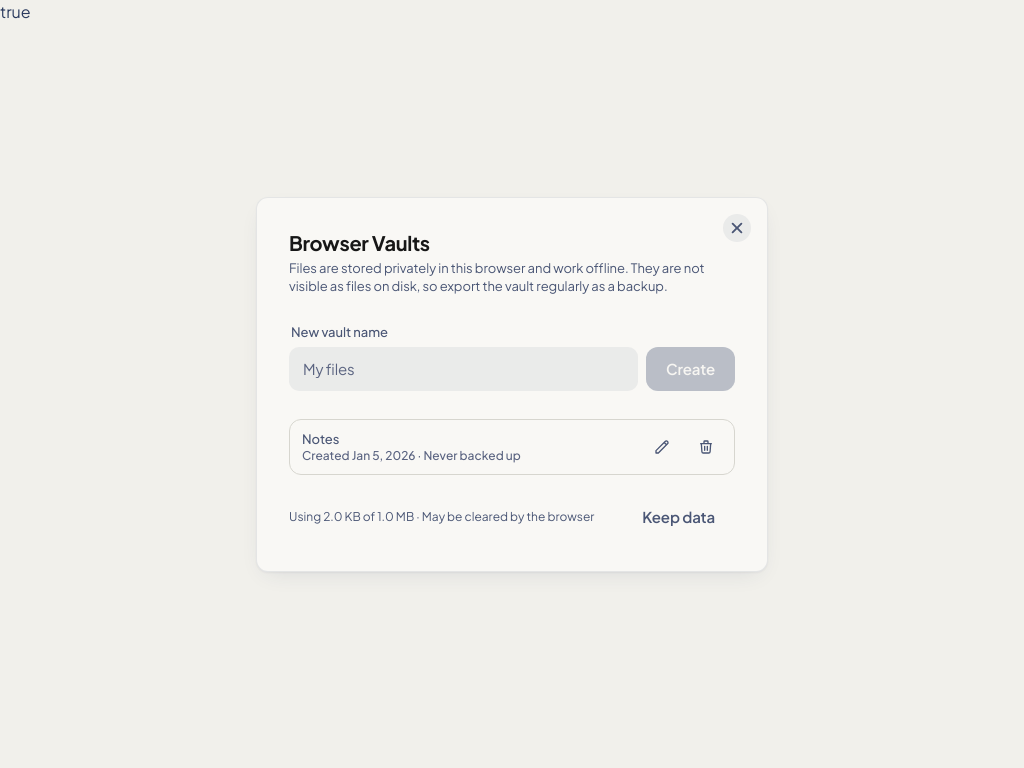
BrowserVaultDialog › creates a vault from the typed name and closes
expect the text "Notes" is shown: met, box [302,430,339,446]
Type "Journal" into the field with placeholder "My files" at (464, 368), box [289,346,638,390]
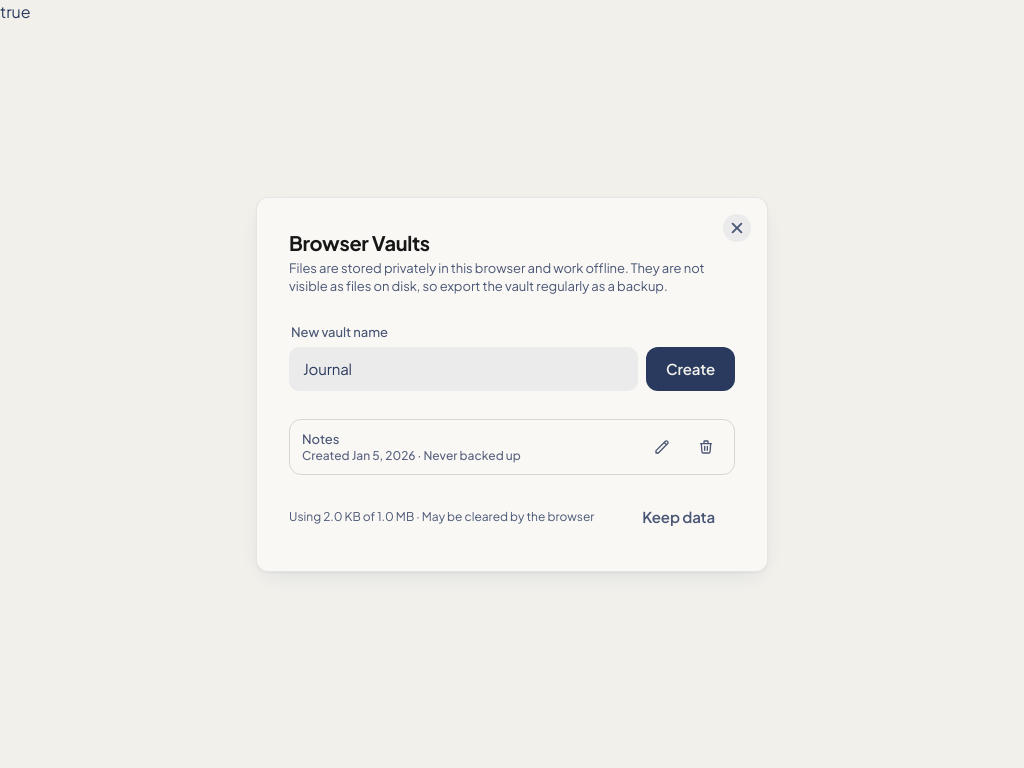
Click the button "Create" at (690, 368), box [646,346,735,390]
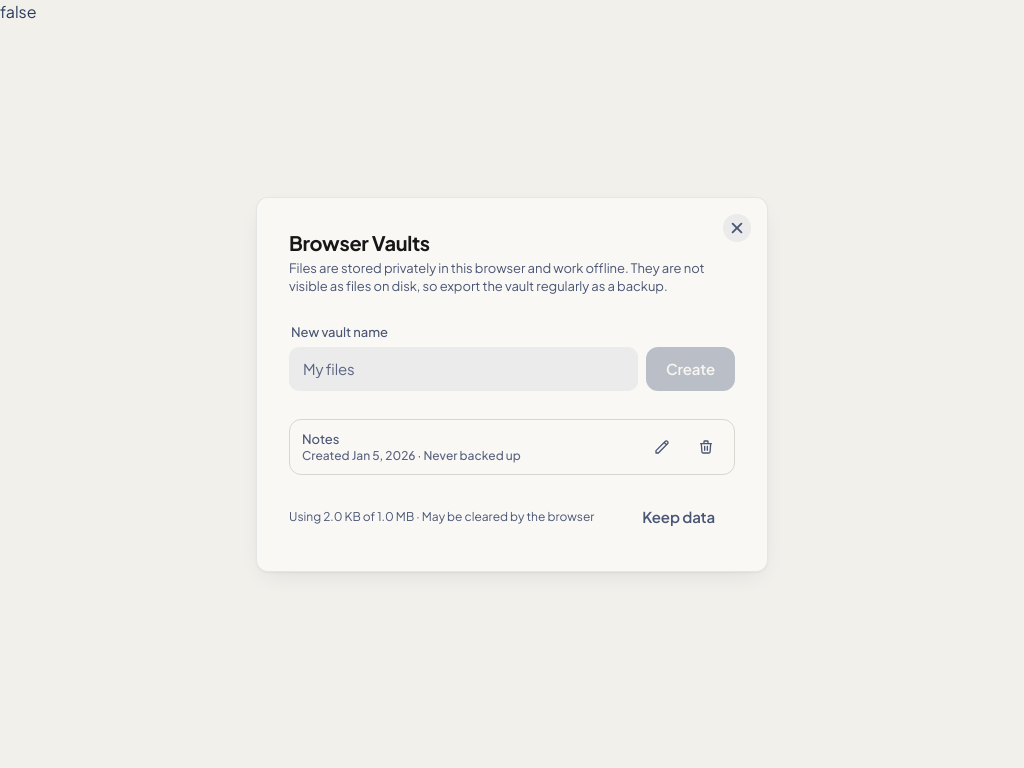
expect the text with test id "open" reads "false": met, box [0,1,37,22]
